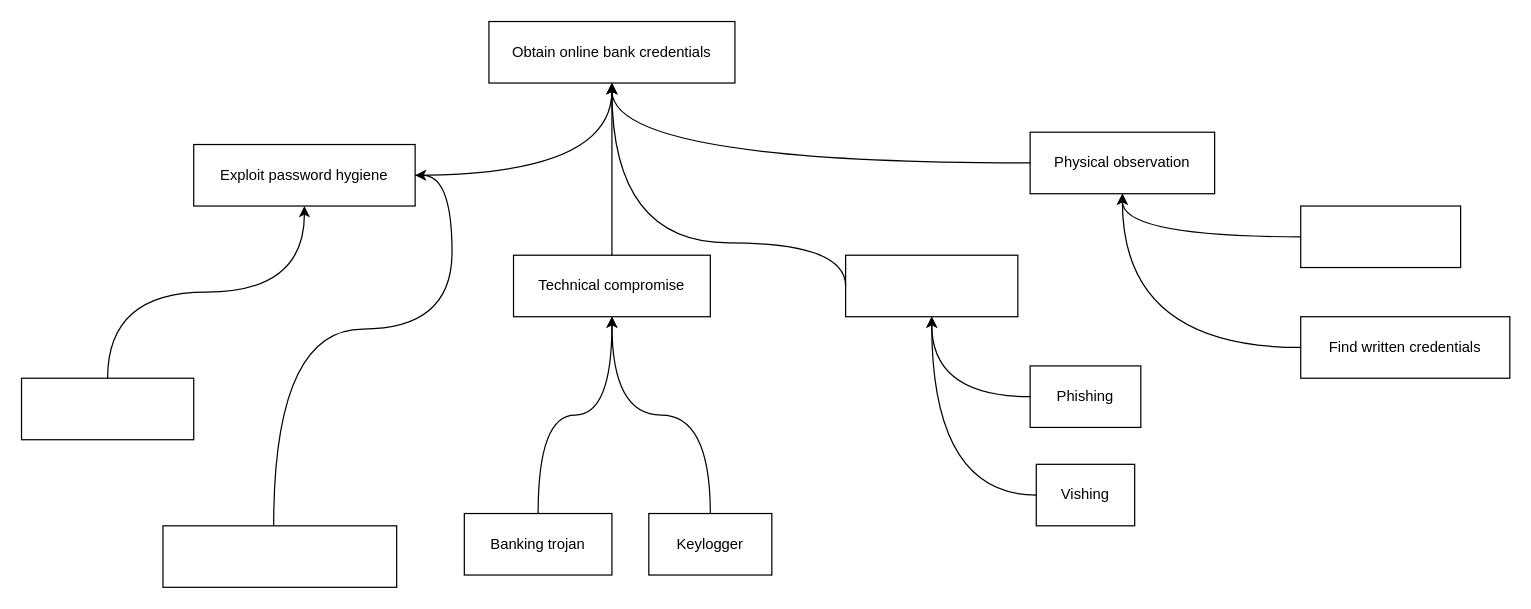
Image size: 1531x609. Some labels were removed from this diagram. Here are the shapes that lost their labels. From the top down, the centre of each, then its label:
At [1380,236]: "Shoulder surfing".
At [931,285]: "Social Engineering".
At [107,408]: "Credential stuffing".
At [279,556]: "Guessing weak passwords".
